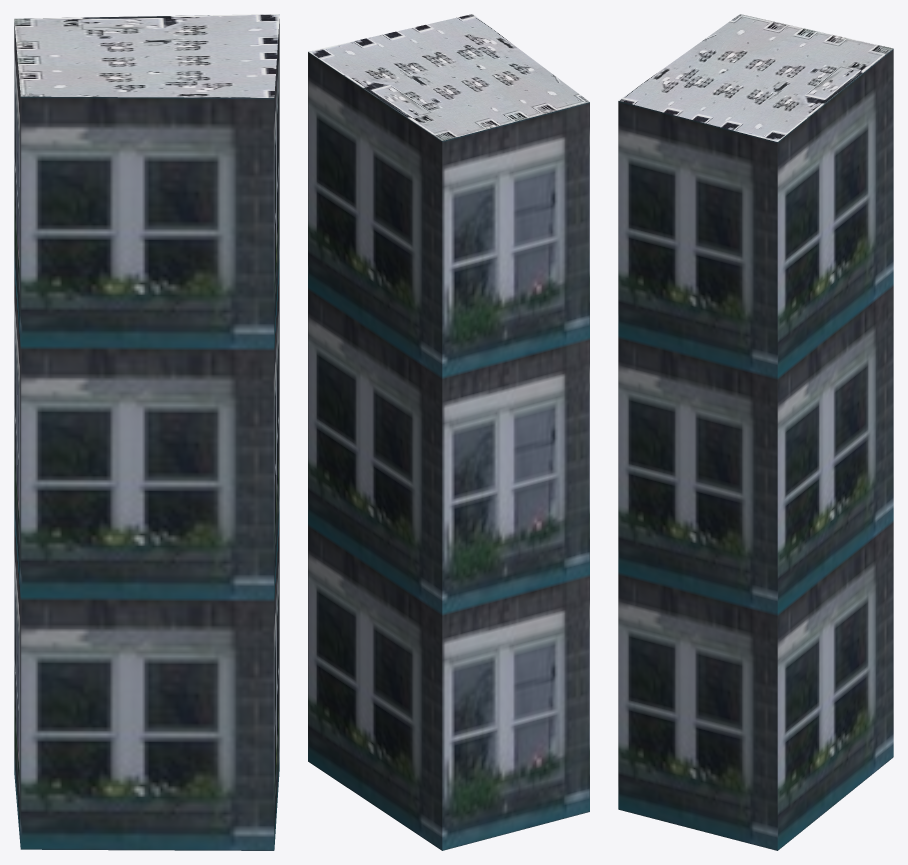
The model's file is ResTex__5331.fbx.
3 renders of one model, left to right at view 1: azimuth 30°, elevation 25°; view 2: azimuth 150°, elevation 25°; view 3: azimuth 270°, elevation 25°, orthographic. The views are drawn at different scales.
Parts seen in each view (by area): view 1: CityEngineMaterial_11_m, CityEngineMaterial_4_m; view 2: CityEngineMaterial_11_m, CityEngineMaterial_4_m; view 3: CityEngineMaterial_11_m, CityEngineMaterial_4_m.
Boxes of the visible parts, <box> form: CityEngineMaterial_11_m: <box>14,19,279,850</box>; CityEngineMaterial_4_m: <box>14,14,279,97</box>; CityEngineMaterial_11_m: <box>308,52,589,850</box>; CityEngineMaterial_4_m: <box>308,14,589,140</box>; CityEngineMaterial_11_m: <box>618,49,893,850</box>; CityEngineMaterial_4_m: <box>618,14,893,141</box>.
Size of the model in its own units: 3.49 by 9 by 3.17.
2 materials, 2 textured.
